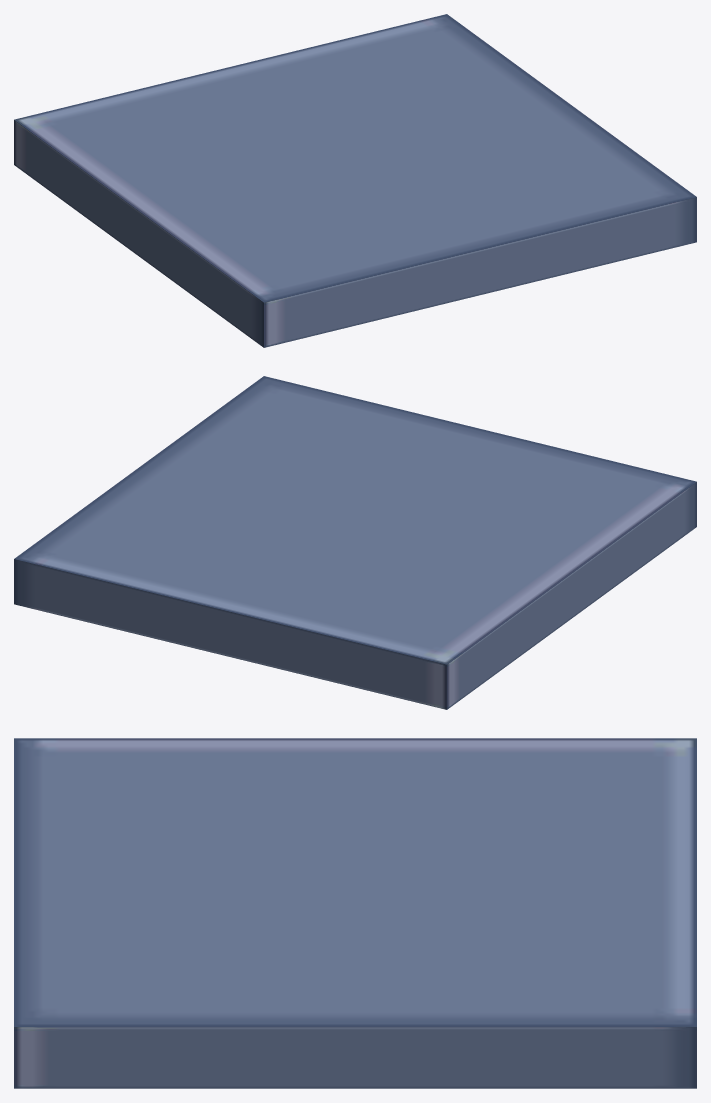
The model's file is Tile.glb.
3 renders of one model, top to bottom at view 1: azimuth 30°, elevation 25°; view 2: azimuth 150°, elevation 25°; view 3: azimuth 270°, elevation 25°, orthographic. The views are drawn at different scales.
Parts seen in each view (by area): view 1: Cell; view 2: Cell; view 3: Cell.
Boxes of the visible parts, x1,y1,x2,y2 form: Cell: (14, 14, 696, 347); Cell: (14, 376, 696, 709); Cell: (14, 738, 696, 1088).
Bounding box in the file's own units: 3 × 0.3 × 3.
6 materials, 6 textured.
